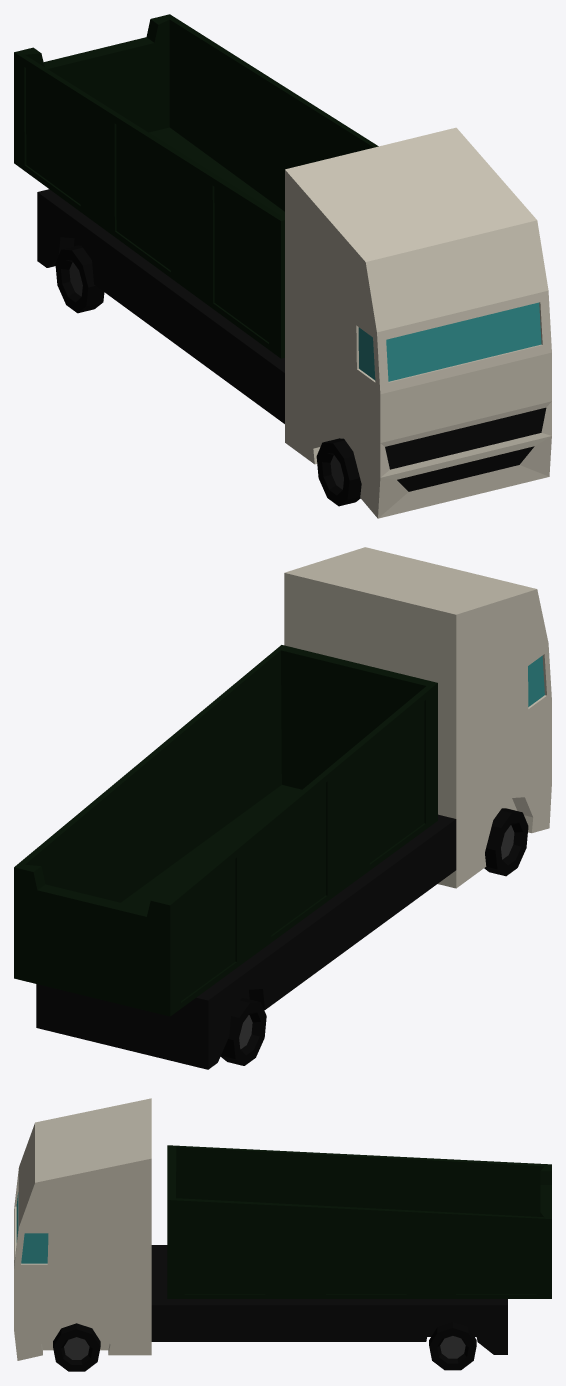
Rendered from truck.obj.
3 renders of one model, top to bottom at view 1: azimuth 30°, elevation 25°; view 2: azimuth 150°, elevation 25°; view 3: azimuth 270°, elevation 25°, orthographic. The views are drawn at different scales.
Parts seen in each view (by area): view 1: Cylinder.001_Cylinder.004, Cube.001_Cube.008, Cylinder.001_Cylinder.003; view 2: Cube.001_Cube.008, Cylinder.001_Cylinder.004, Cylinder.001_Cylinder.003; view 3: Cube.001_Cube.008, Cylinder.001_Cylinder.004, Cylinder.001_Cylinder.003.
Boxes of the visible parts, x1,y1,x2,y2 form: Cylinder.001_Cylinder.004: [37, 127, 551, 518]; Cube.001_Cube.008: [14, 14, 378, 358]; Cylinder.001_Cylinder.003: [55, 245, 361, 506]; Cube.001_Cube.008: [14, 645, 437, 1016]; Cylinder.001_Cylinder.004: [36, 547, 551, 1069]; Cylinder.001_Cylinder.003: [220, 808, 528, 1065]; Cube.001_Cube.008: [167, 1145, 551, 1298]; Cylinder.001_Cylinder.004: [14, 1098, 507, 1360]; Cylinder.001_Cylinder.003: [53, 1322, 476, 1371].
Size of the model in its own units: 2.67 by 4.19 by 9.65.
